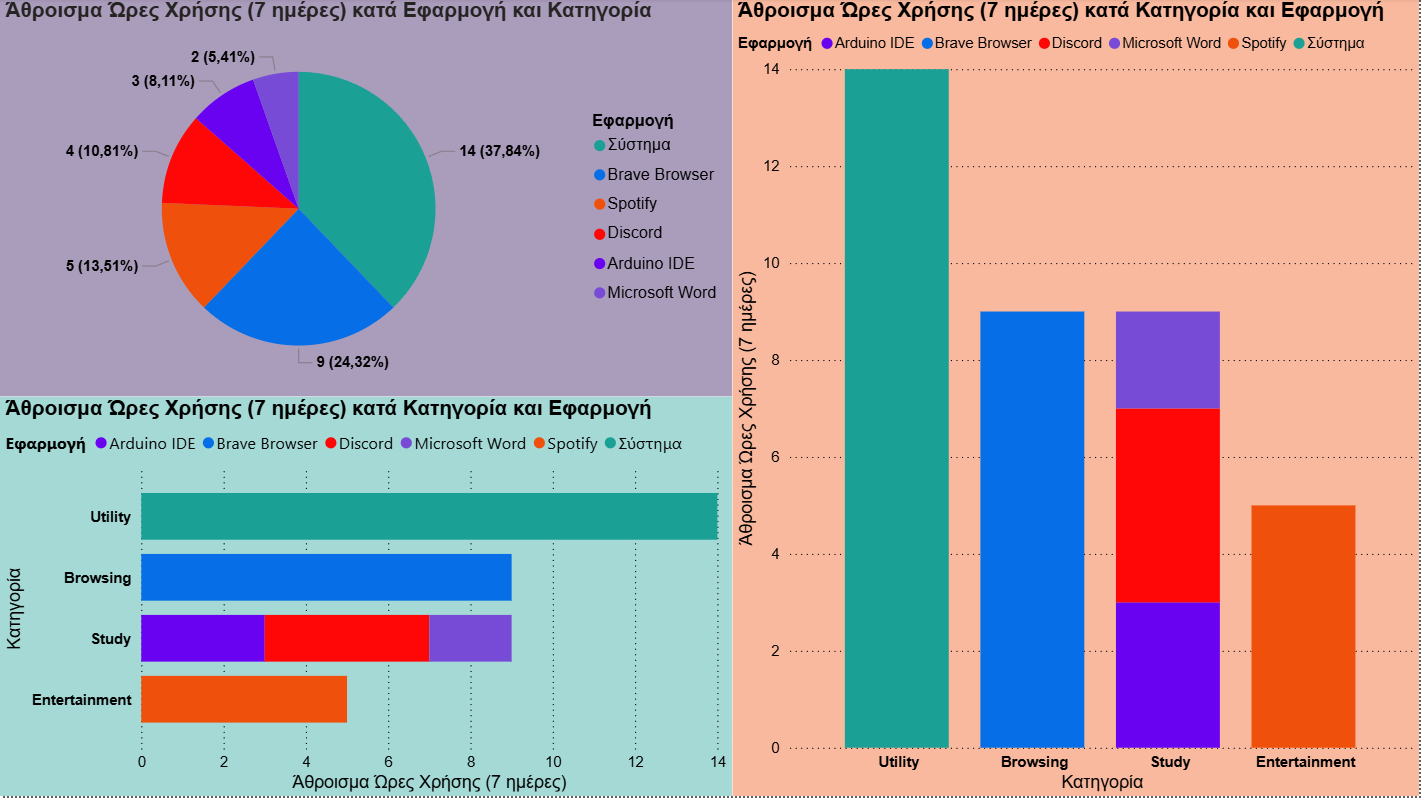

What the dashboard file says about the page in this screenshot:
{"tool":"powerbi","page":{"name":"Σελίδα 1","canvas":[1280,720],"ordinal":0},"visuals":[{"type":"pieChart","fields":{"Category":["Πίνακας.Εφαρμογή"],"Series":["Πίνακας.Κατηγορία"],"Y":["Sum(Πίνακας.Ώρες Χρήσης (7 ημέρες))"]},"box":[0,0,660,359.5],"z":0},{"type":"barChart","fields":{"Category":["Πίνακας.Κατηγορία"],"Series":["Πίνακας.Εφαρμογή"],"Y":["Sum(Πίνακας.Ώρες Χρήσης (7 ημέρες))"]},"box":[0,359.5,660,360.9],"z":1000},{"type":"columnChart","fields":{"Category":["Πίνακας.Κατηγορία"],"Y":["Sum(Πίνακας.Ώρες Χρήσης (7 ημέρες))"],"Series":["Πίνακας.Εφαρμογή"]},"box":[660,0,620,720],"z":2000}]}

Visuals, with their boxes in screenshot pixels (x1, y1, x2, y2), scaled from the page's 1280x720 canvas onto the 1422x798 screenshot:
pieChart - Πίνακας.Εφαρμογή x Πίνακας.Κατηγορία: box(0, 0, 733, 398)
barChart - Πίνακας.Κατηγορία x Πίνακας.Εφαρμογή: box(0, 398, 733, 797)
columnChart - Πίνακας.Κατηγορία x Sum(Πίνακας.Ώρες Χρήσης (7 ημέρες)): box(733, 0, 1421, 797)
